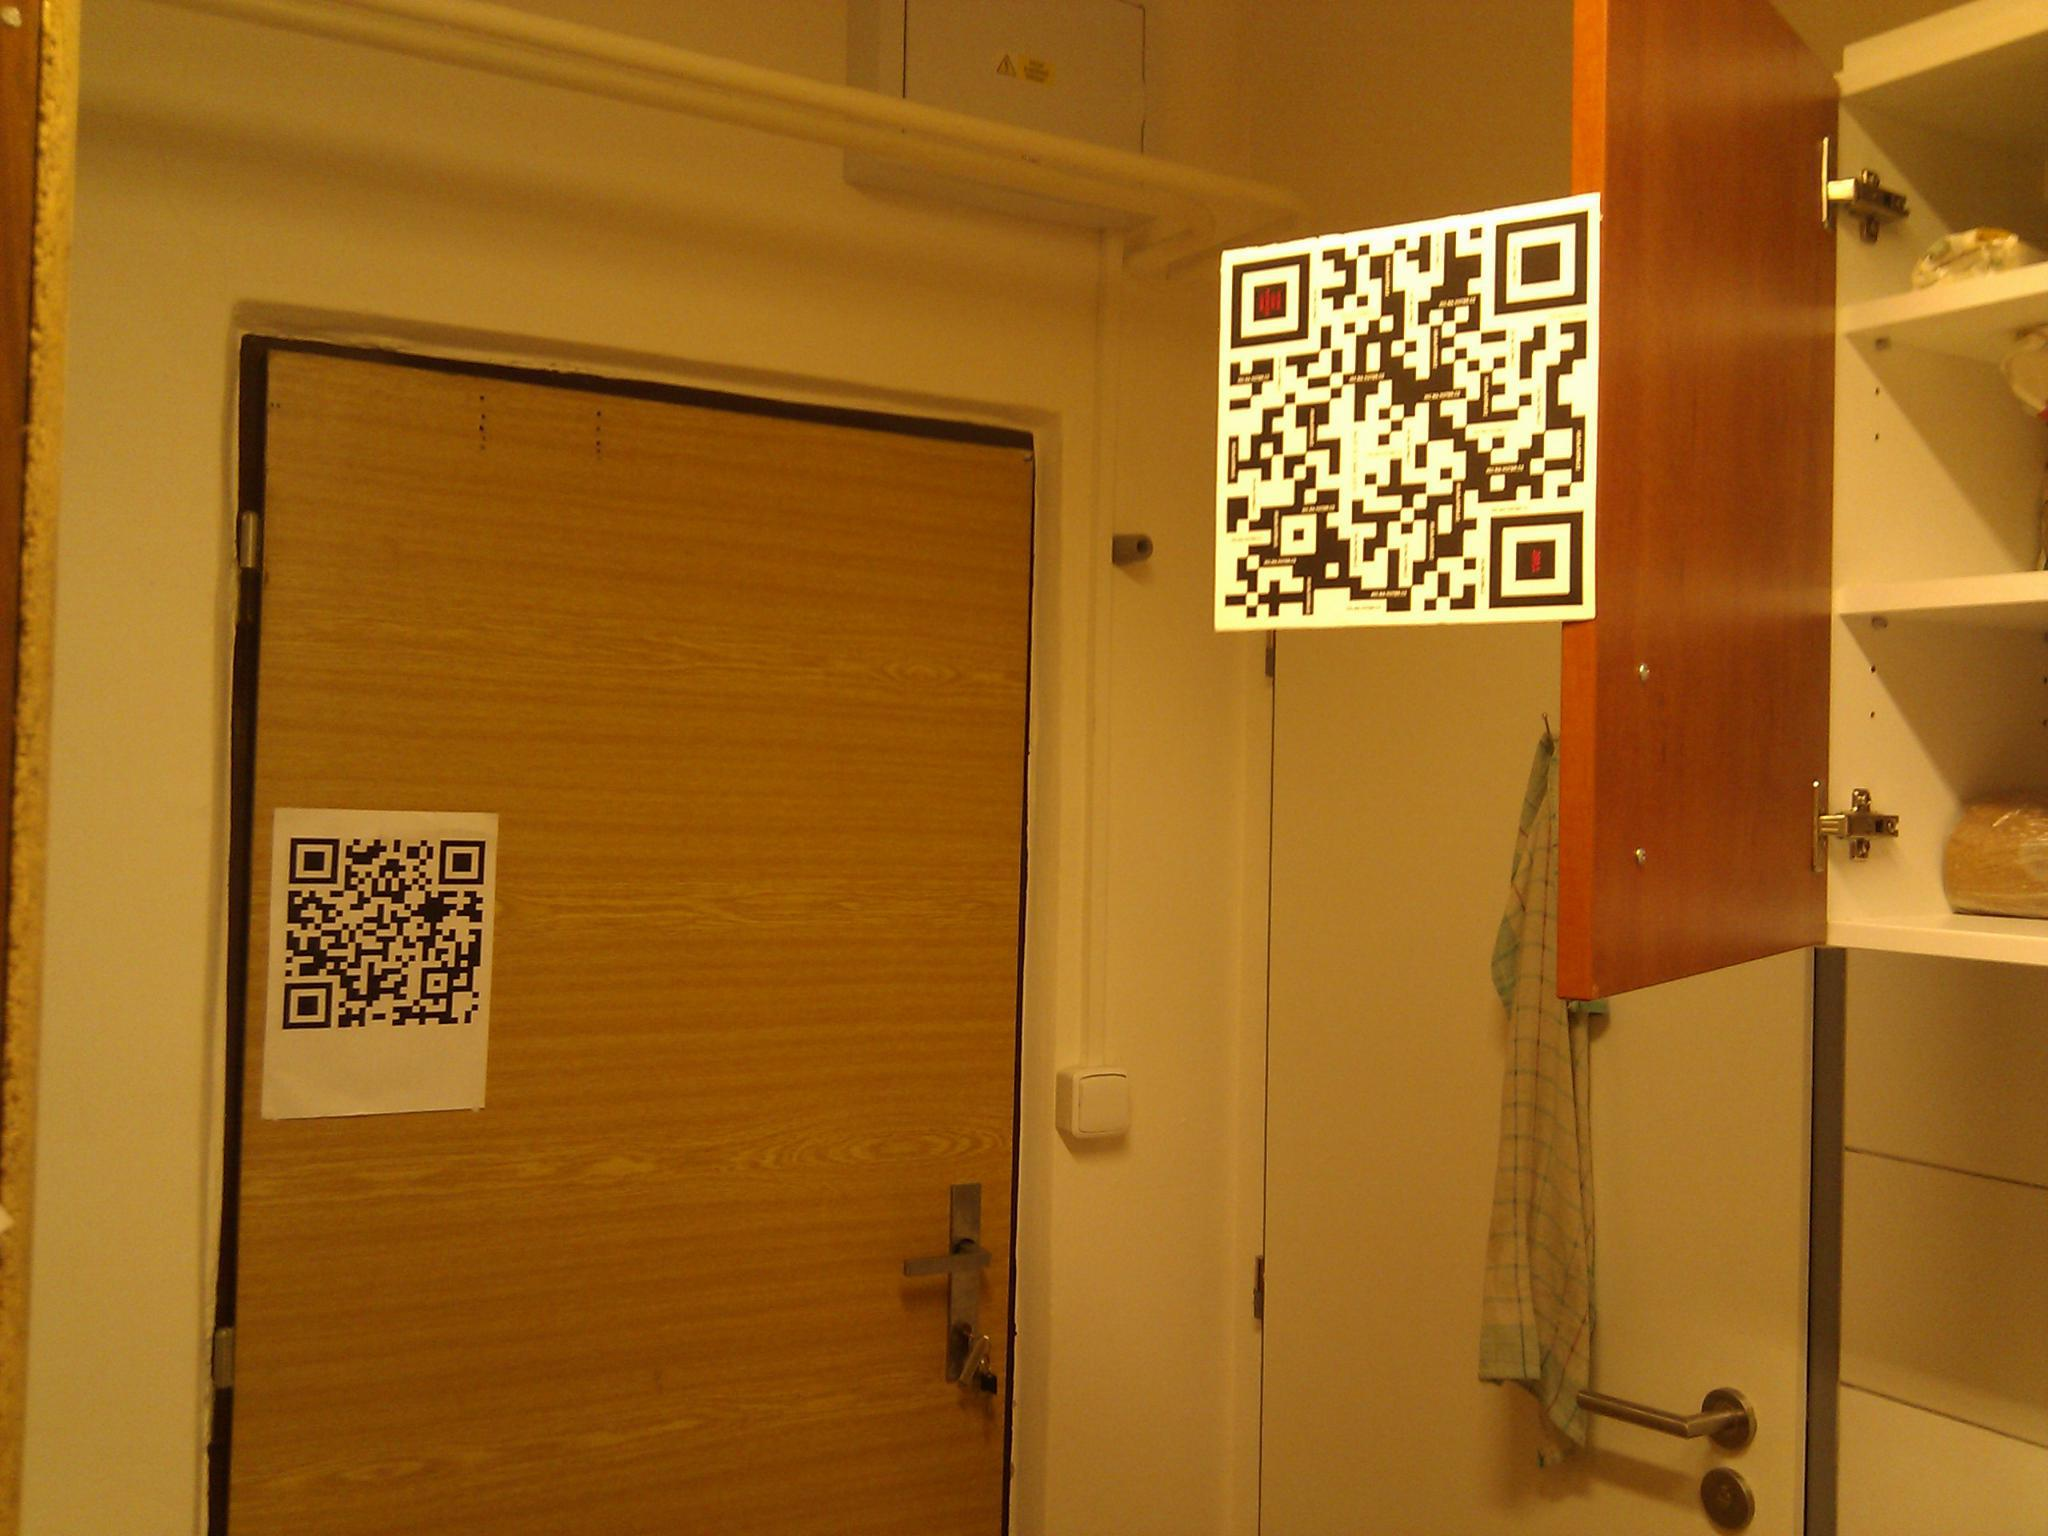Finder pattern: (1480, 494, 1600, 618), (1496, 205, 1593, 319), (1222, 250, 1317, 350), (284, 978, 335, 1034), (439, 834, 489, 892), (289, 833, 335, 887)
